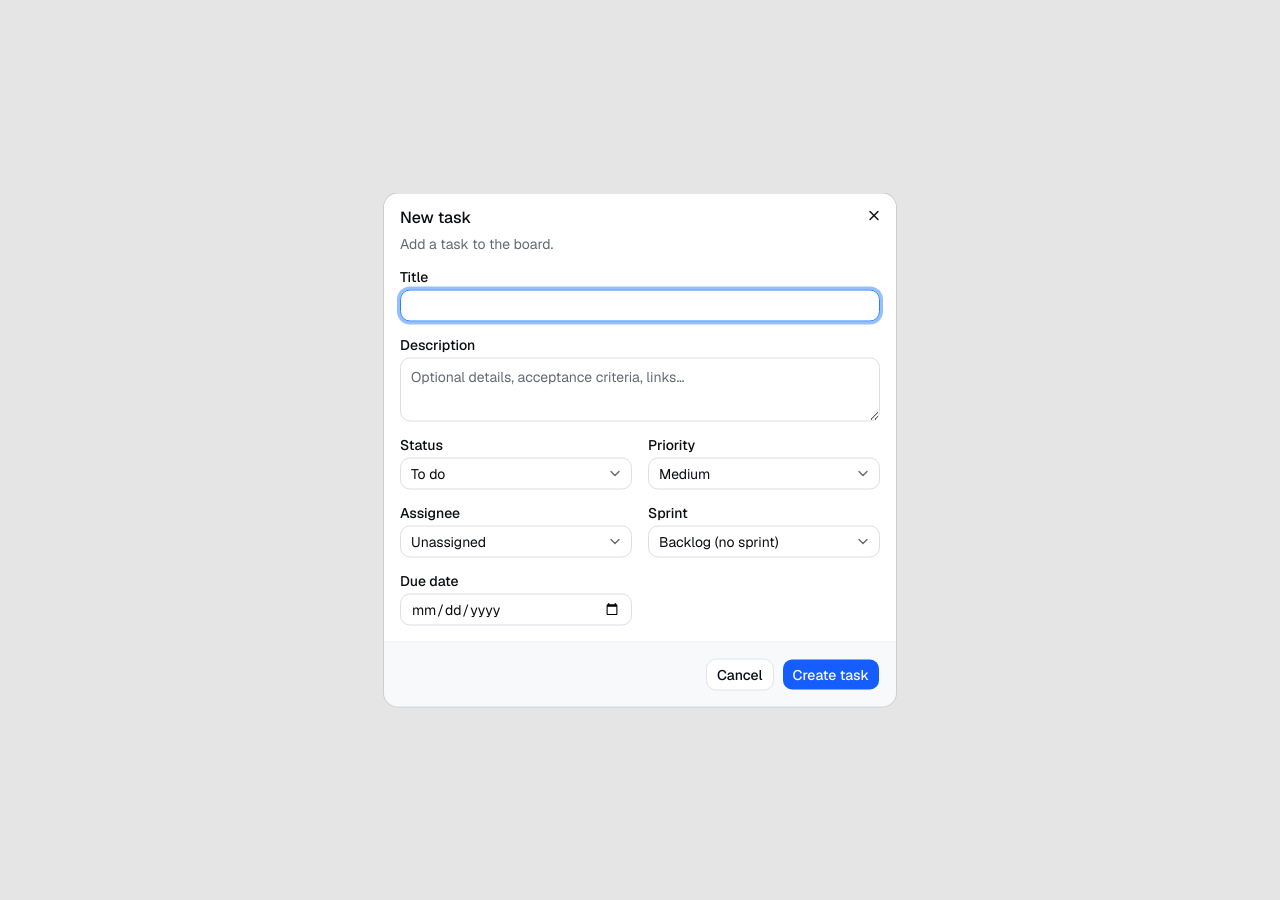
Test: TaskFormDialog › does not submit a task without a title
Click the button "Create task": coordinates (831, 674) [782,658,880,690]
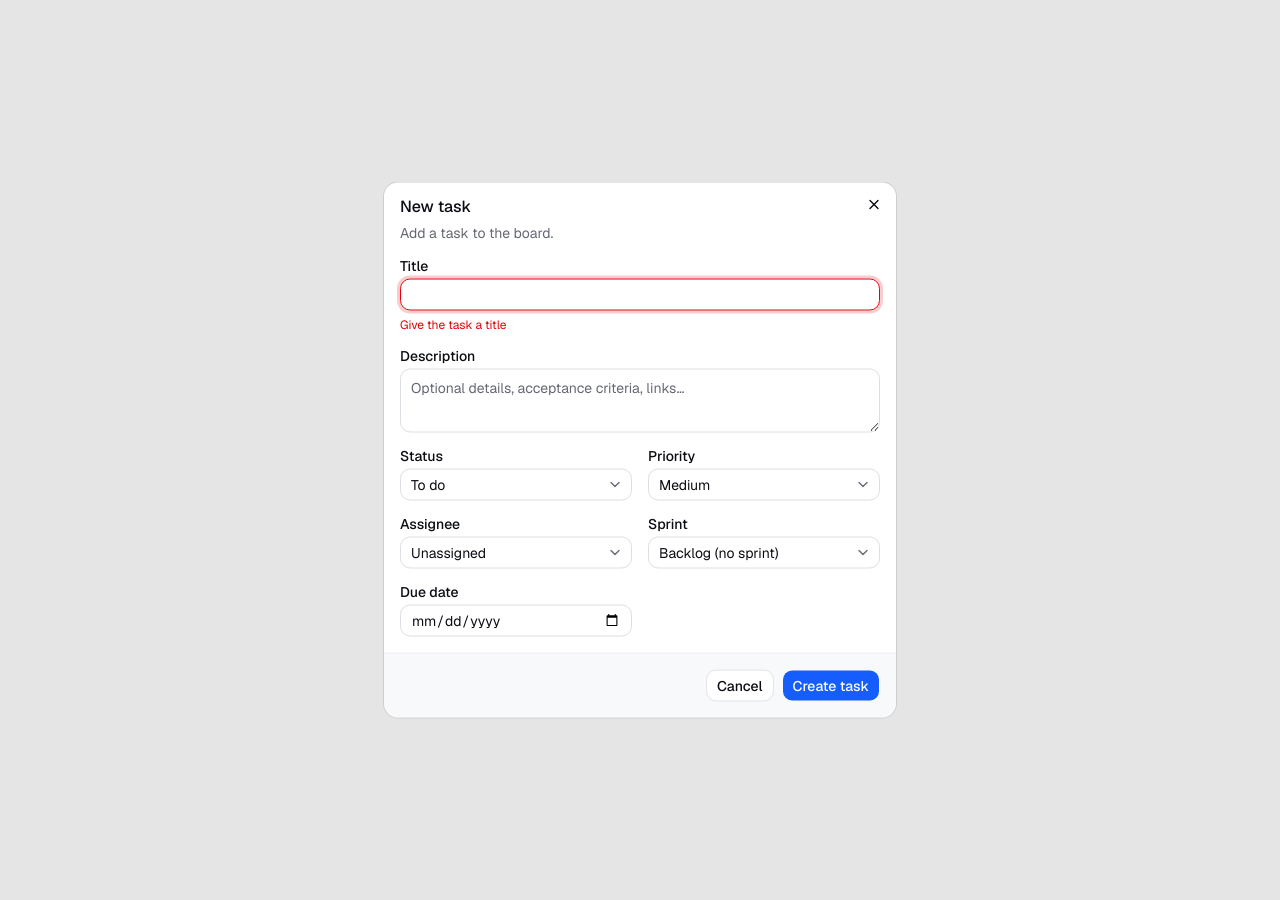
Expected: the text "Give the task a title" is shown, [400,316,507,332]
